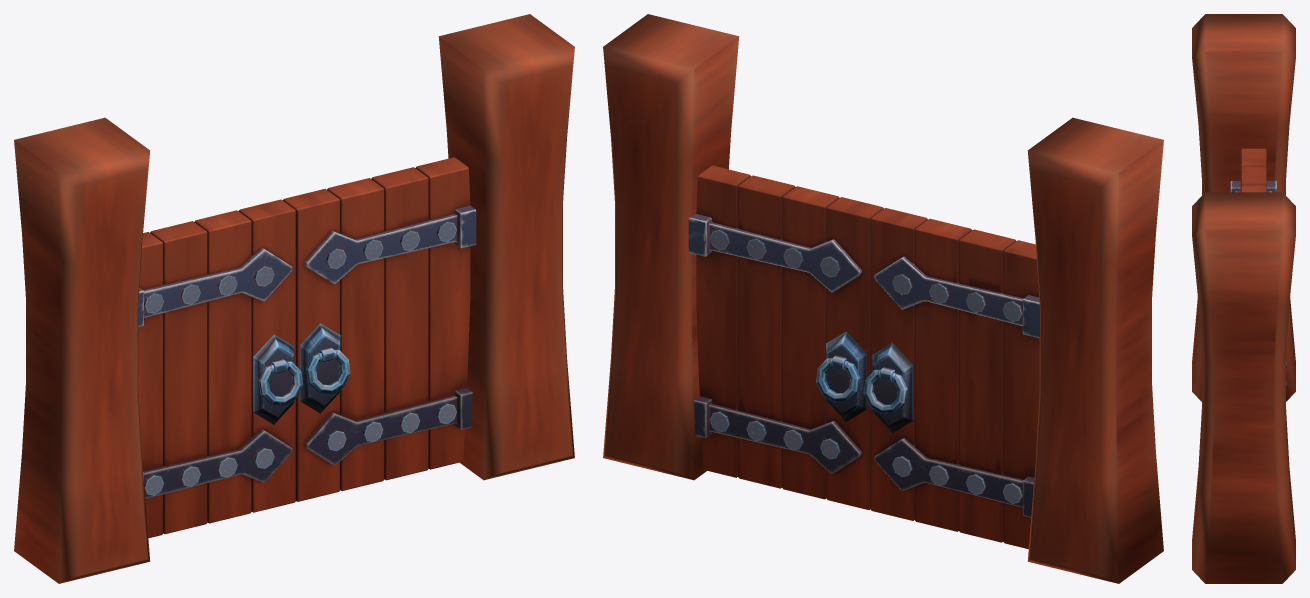
File: door_destroy.fbx
3 views of the same model, side by side, from view 1: azimuth 30°, elevation 25°; view 2: azimuth 150°, elevation 25°; view 3: azimuth 270°, elevation 25° (orthographic). The views are drawn at different scales.
Visible parts, largest first — view 1: wall_door_lvl1_columnes, wall_door_lvl1_columnes.020, wall_door_lvl1_columnes.014, wall_door_lvl1_columnes.022, wall_door_lvl1_columnes.012, wall_door_lvl1_columnes.011, wall_door_lvl1_columnes.013, wall_door_lvl1_columnes.023, wall_door_lvl1_columnes.016, wall_door_lvl1_columnes.009, wall_door_lvl1_columnes.006, wall_door_lvl1_columnes.019 (+11 smaller); view 2: wall_door_lvl1_columnes, wall_door_lvl1_columnes.020, wall_door_lvl1_columnes.014, wall_door_lvl1_columnes.022, wall_door_lvl1_columnes.012, wall_door_lvl1_columnes.011, wall_door_lvl1_columnes.009, wall_door_lvl1_columnes.016, wall_door_lvl1_columnes.013, wall_door_lvl1_columnes.023, wall_door_lvl1_columnes.019, wall_door_lvl1_columnes.006 (+11 smaller); view 3: wall_door_lvl1_columnes, wall_door_lvl1_columnes.023, wall_door_lvl1_columnes.024, wall_door_lvl1_columnes.008, wall_door_lvl1_columnes.020.
Boxes of the visible parts, <box> form: wall_door_lvl1_columnes: <box>14,14,574,583</box>; wall_door_lvl1_columnes.020: <box>194,210,251,400</box>; wall_door_lvl1_columnes.014: <box>327,178,384,364</box>; wall_door_lvl1_columnes.022: <box>163,355,207,534</box>; wall_door_lvl1_columnes.012: <box>384,292,428,480</box>; wall_door_lvl1_columnes.011: <box>428,272,470,469</box>; wall_door_lvl1_columnes.013: <box>371,167,428,335</box>; wall_door_lvl1_columnes.023: <box>150,221,207,383</box>; wall_door_lvl1_columnes.016: <box>283,188,340,369</box>; wall_door_lvl1_columnes.009: <box>304,205,476,283</box>; wall_door_lvl1_columnes.006: <box>304,388,472,465</box>; wall_door_lvl1_columnes.019: <box>238,199,295,397</box>; wall_door_lvl1_columnes: <box>603,14,1163,583</box>; wall_door_lvl1_columnes.020: <box>914,218,972,406</box>; wall_door_lvl1_columnes.014: <box>782,186,839,368</box>; wall_door_lvl1_columnes.022: <box>959,361,1003,542</box>; wall_door_lvl1_columnes.012: <box>738,305,782,488</box>; wall_door_lvl1_columnes.011: <box>696,272,737,477</box>; wall_door_lvl1_columnes.009: <box>688,214,862,292</box>; wall_door_lvl1_columnes.016: <box>826,197,883,377</box>; wall_door_lvl1_columnes.013: <box>738,175,795,335</box>; wall_door_lvl1_columnes.023: <box>959,229,1016,384</box>; wall_door_lvl1_columnes.019: <box>870,208,927,405</box>; wall_door_lvl1_columnes.006: <box>694,396,862,473</box>; wall_door_lvl1_columnes: <box>1192,14,1295,583</box>; wall_door_lvl1_columnes.023: <box>1240,166,1266,185</box>; wall_door_lvl1_columnes.024: <box>1240,148,1266,166</box>; wall_door_lvl1_columnes.008: <box>1230,180,1276,192</box>; wall_door_lvl1_columnes.020: <box>1240,184,1266,192</box>.
Bounding box in the file's own units: 1098 × 836 × 223.
